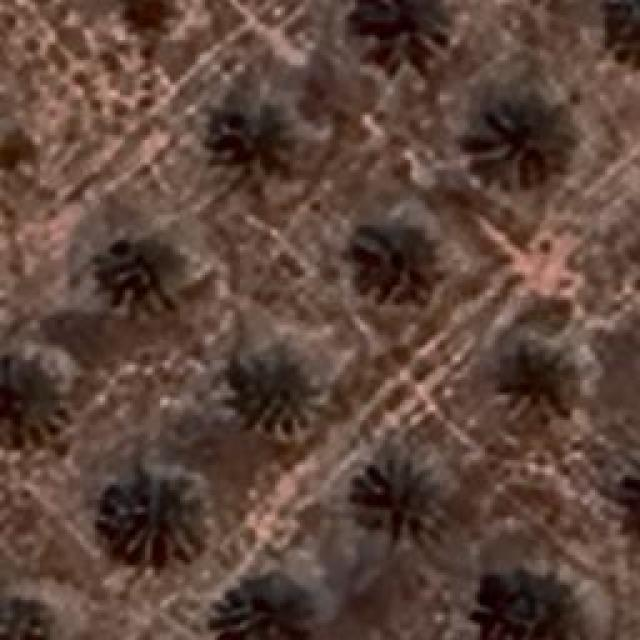PalmTree: (100, 465, 210, 565), (207, 101, 315, 194), (480, 95, 572, 183), (232, 345, 318, 435), (355, 452, 443, 538), (473, 568, 575, 640), (212, 570, 316, 640), (352, 222, 438, 302), (96, 231, 182, 311), (502, 341, 580, 418), (355, 0, 450, 60), (0, 362, 62, 449), (0, 590, 58, 640), (603, 0, 640, 73), (603, 464, 640, 536)
